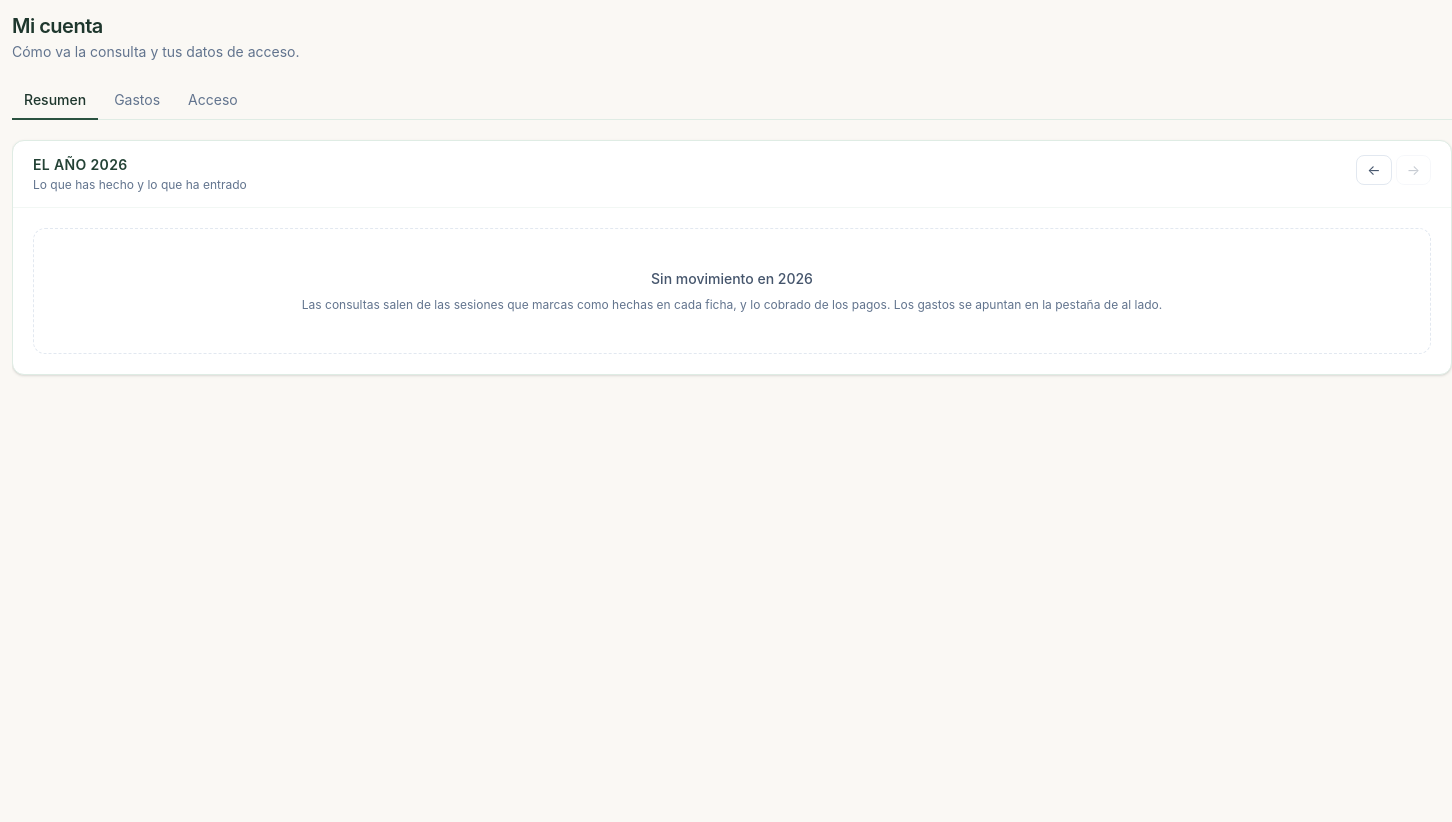
Scenario: Los datos de acceso › enseñan con qué correo entras
Click the button "Acceso" at (213, 101), box [176, 82, 250, 120]
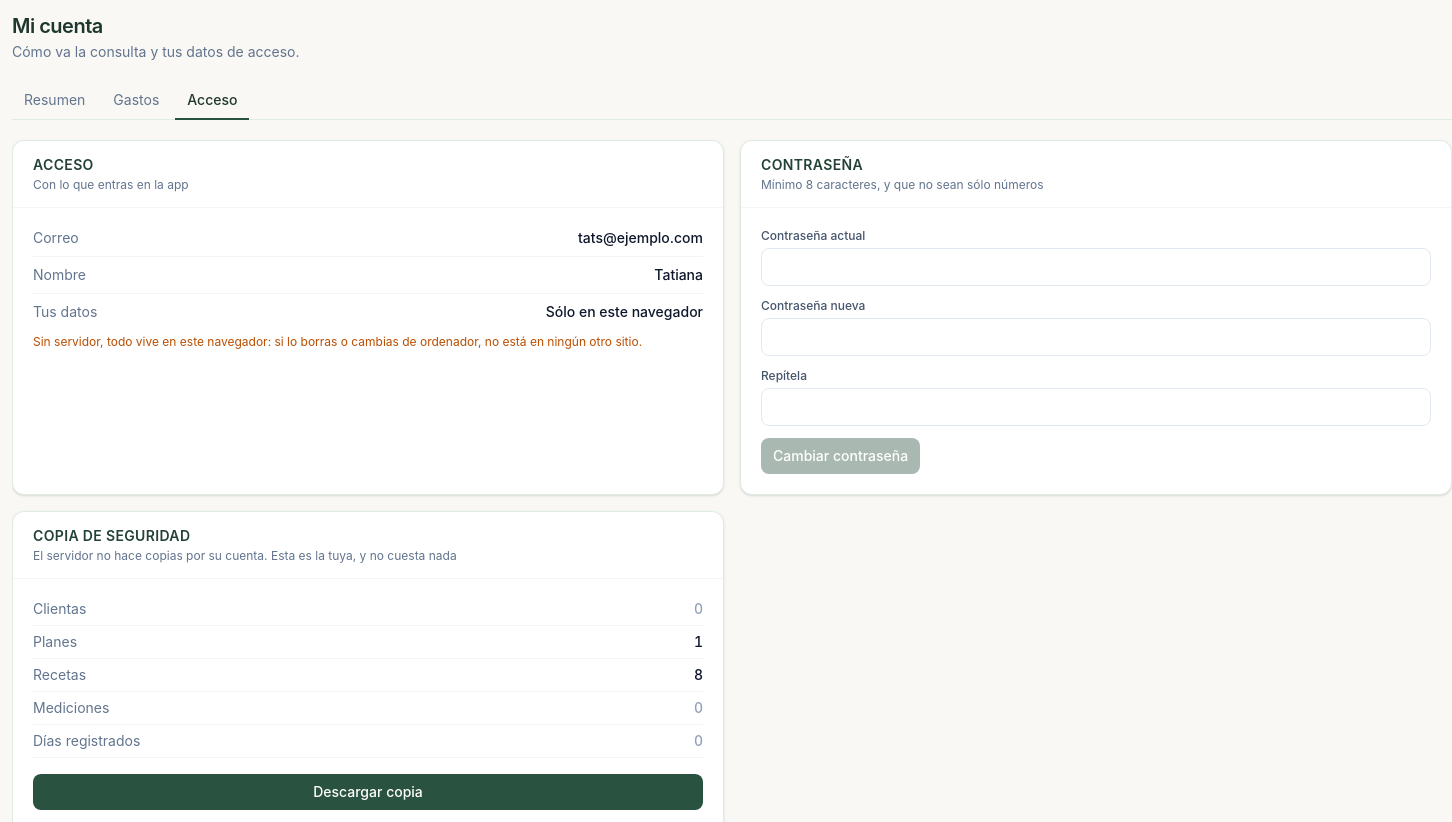
Expected: the text "tats@ejemplo.com" is shown, [578, 228, 703, 248]
